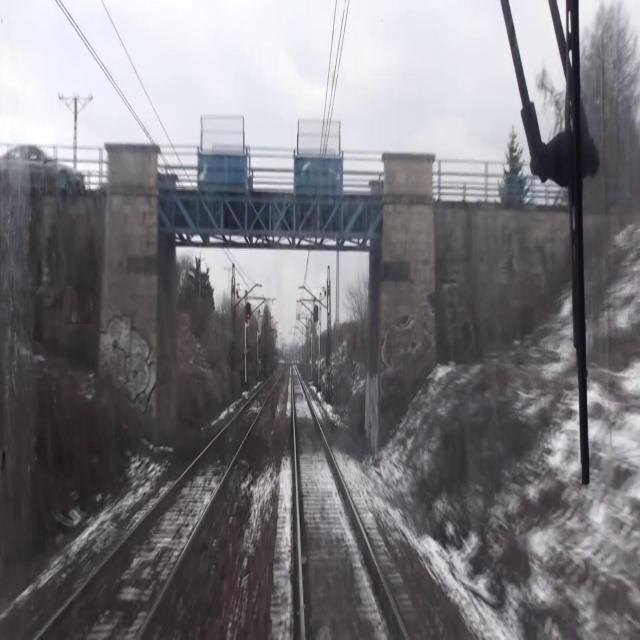rail-track: (41, 372, 279, 639), (294, 369, 403, 639)
